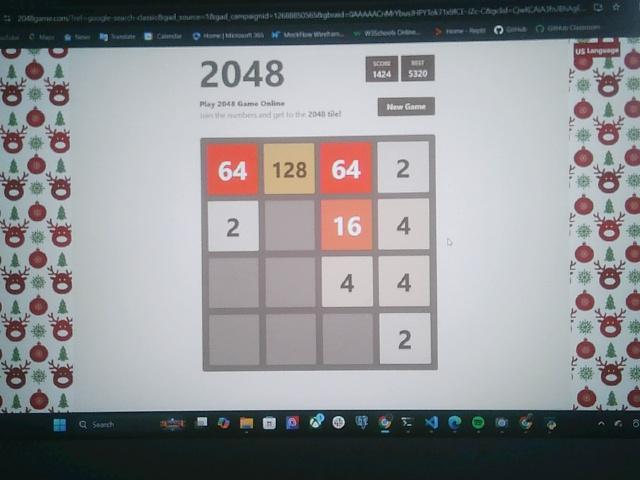board: (202, 137, 436, 372)
tile: (208, 143, 259, 196), (321, 200, 373, 251), (379, 199, 431, 250), (379, 257, 431, 308), (379, 313, 431, 364), (263, 144, 316, 194), (378, 142, 429, 193), (323, 257, 374, 308), (322, 143, 373, 193), (209, 202, 259, 251)
